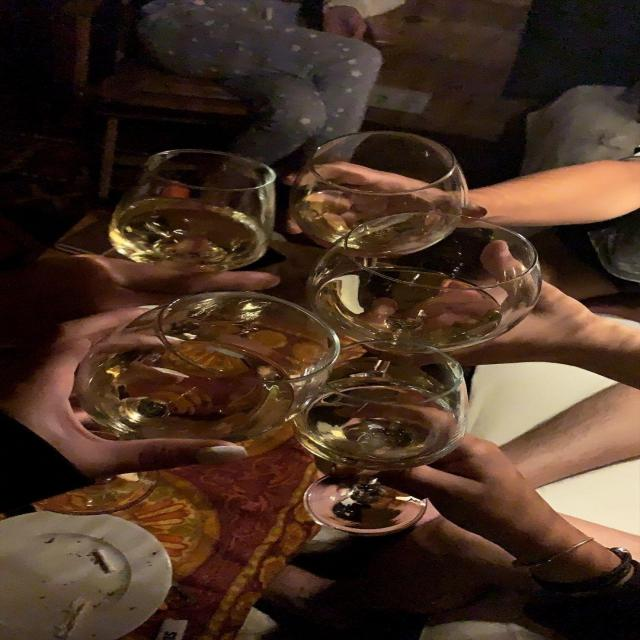glass-wine: (62, 289, 342, 456), (288, 342, 474, 536), (306, 214, 546, 360), (100, 147, 279, 292), (284, 129, 470, 268)
